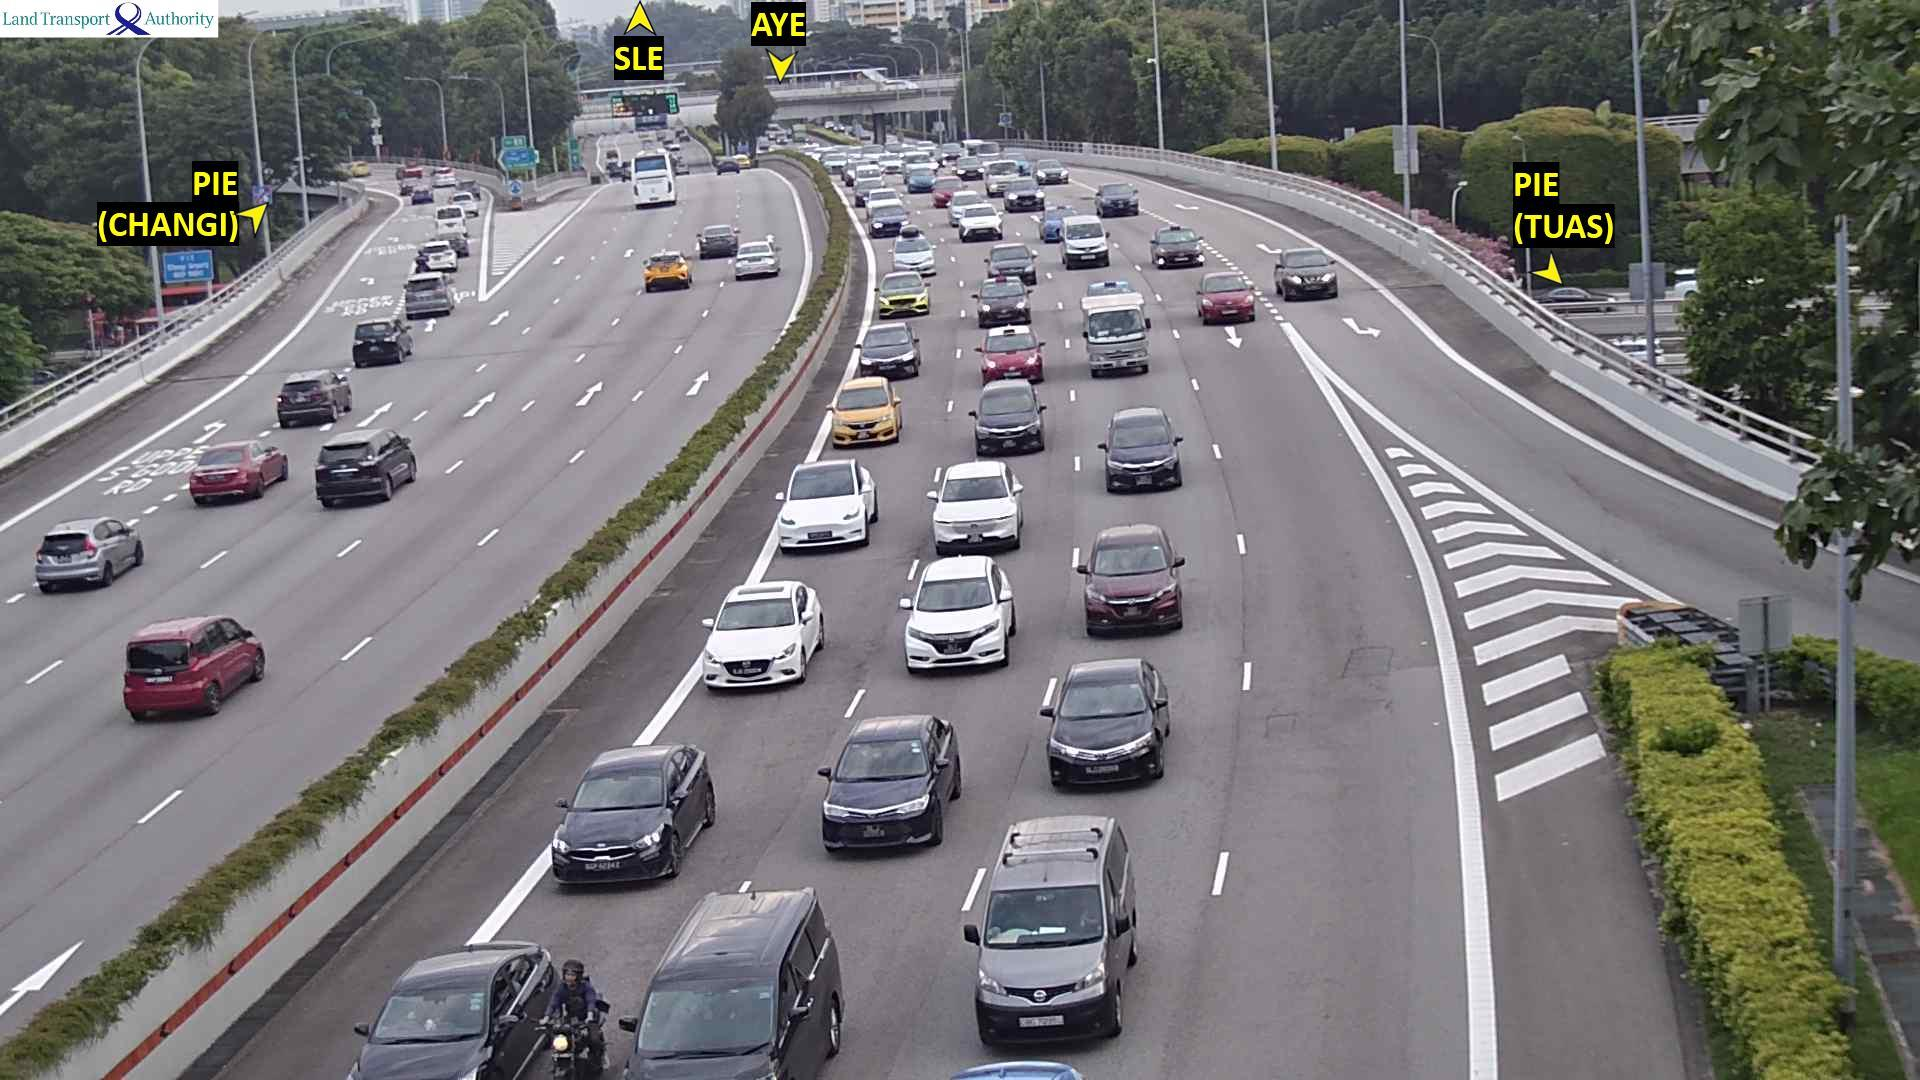incoming: (959, 878, 1133, 1051), (615, 964, 810, 1080), (339, 969, 525, 1080), (549, 758, 695, 889), (816, 735, 952, 860), (1036, 674, 1171, 793), (897, 576, 1015, 675), (700, 595, 816, 695), (1075, 539, 1187, 634), (773, 462, 872, 553), (924, 473, 1026, 554), (1097, 418, 1185, 495), (967, 388, 1048, 458), (1081, 307, 1154, 380), (825, 382, 901, 451), (529, 1013, 600, 1080), (973, 330, 1047, 385), (855, 328, 922, 380), (1274, 251, 1341, 301), (971, 281, 1035, 330), (870, 273, 936, 319), (1195, 274, 1257, 323), (1056, 222, 1112, 269), (984, 244, 1040, 286), (1150, 228, 1205, 269), (887, 236, 940, 277), (953, 206, 1004, 244), (1095, 182, 1142, 218), (1001, 178, 1044, 212), (866, 206, 911, 237), (1039, 210, 1079, 243), (985, 162, 1019, 196), (930, 178, 969, 207), (862, 191, 906, 214), (1034, 160, 1069, 185), (906, 167, 940, 193), (953, 157, 985, 179), (820, 152, 849, 174), (876, 153, 906, 174)
